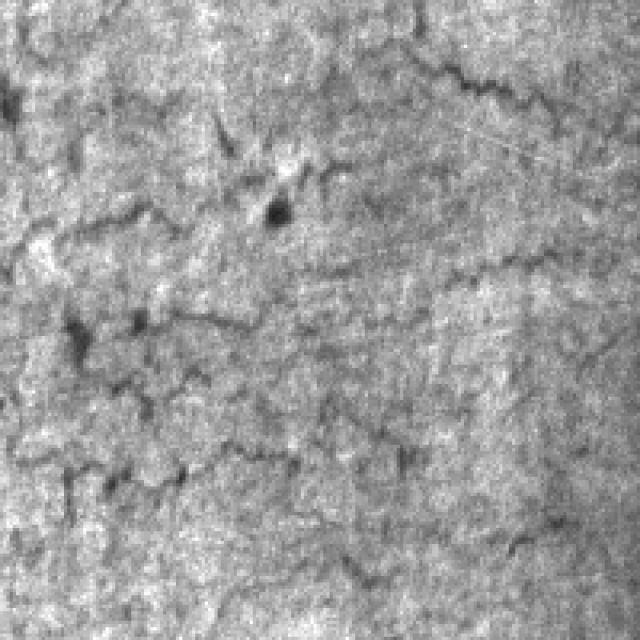crazing: (0, 253, 426, 496), (0, 80, 419, 278), (0, 435, 570, 579), (259, 25, 637, 188)
